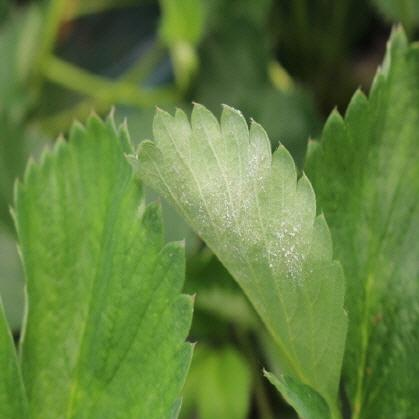Powdery Mildew Leaf: (122, 99, 350, 414)
